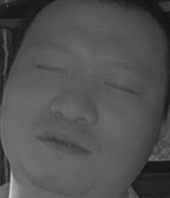blink: (104, 76, 137, 101), (35, 57, 70, 80)
mouth: (32, 118, 90, 158)
